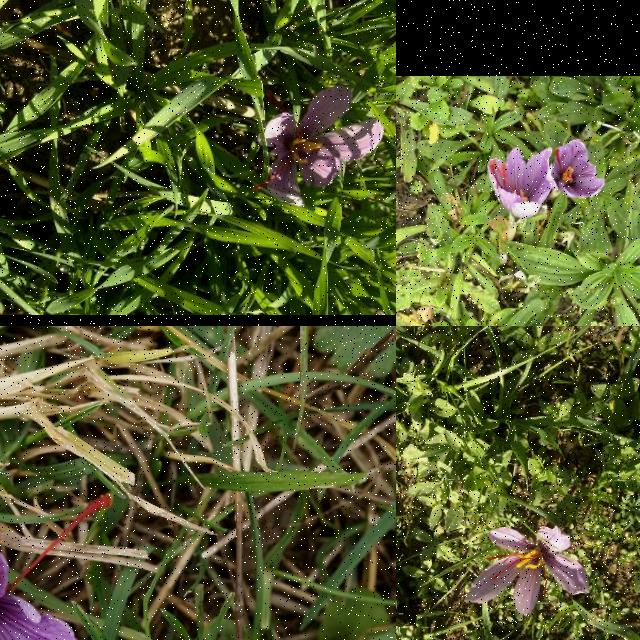flower: (0, 469, 113, 640), (252, 86, 384, 204), (464, 526, 590, 616), (487, 146, 557, 218), (550, 140, 606, 198)
